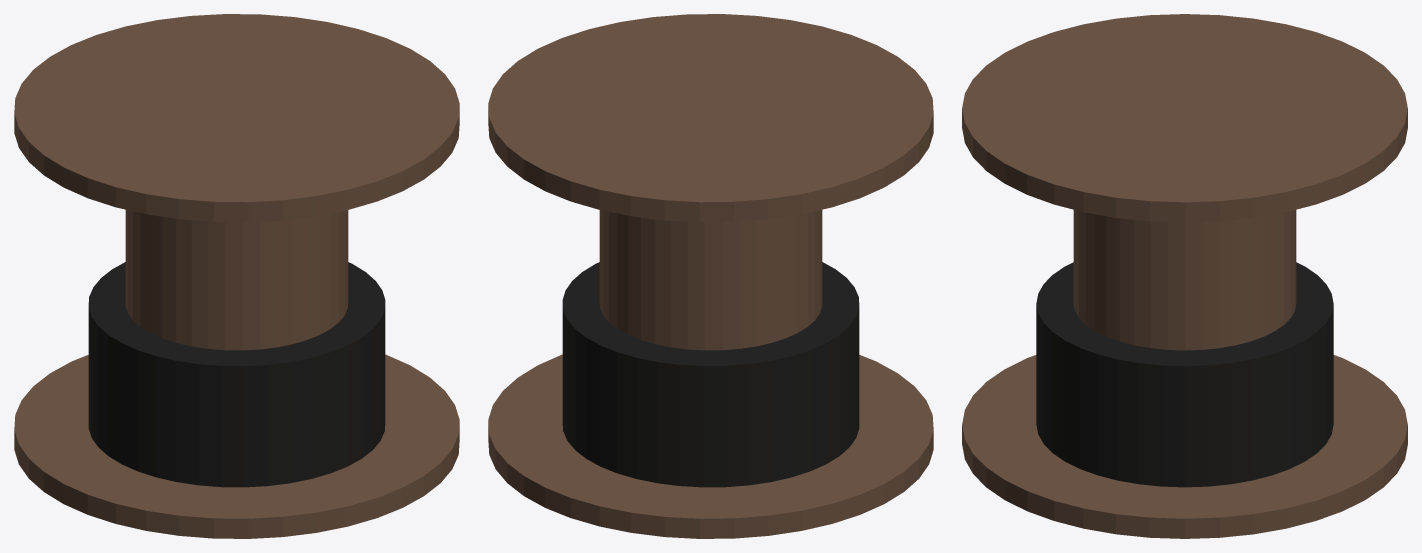
File: cable-drum-table.glb
3 views of the same model, side by side, from view 1: azimuth 30°, elevation 25°; view 2: azimuth 150°, elevation 25°; view 3: azimuth 270°, elevation 25° (orthographic).
Visible parts, largest first — view 1: wood, rubber; view 2: wood, rubber; view 3: wood, rubber.
Boxes of the visible parts, x1,y1,x2,y2 form: wood: (14,14,459,538); rubber: (88,262,385,487); wood: (488,14,933,538); rubber: (562,262,859,487); wood: (962,14,1407,538); rubber: (1036,262,1333,487).
Size of the model in its own units: 0.6 by 0.5 by 0.6.
